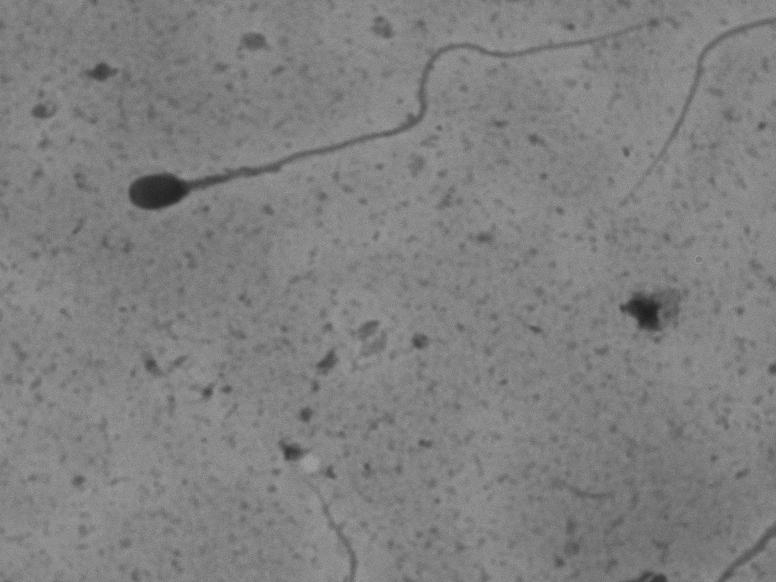Normal: (116, 12, 646, 225)
